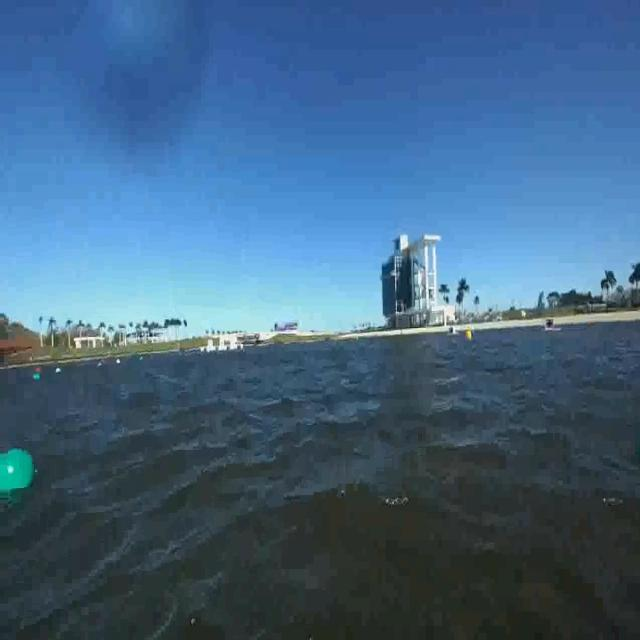green-buoy: (0, 446, 37, 497), (31, 376, 42, 382)
yellow-buoy: (466, 329, 474, 343)
